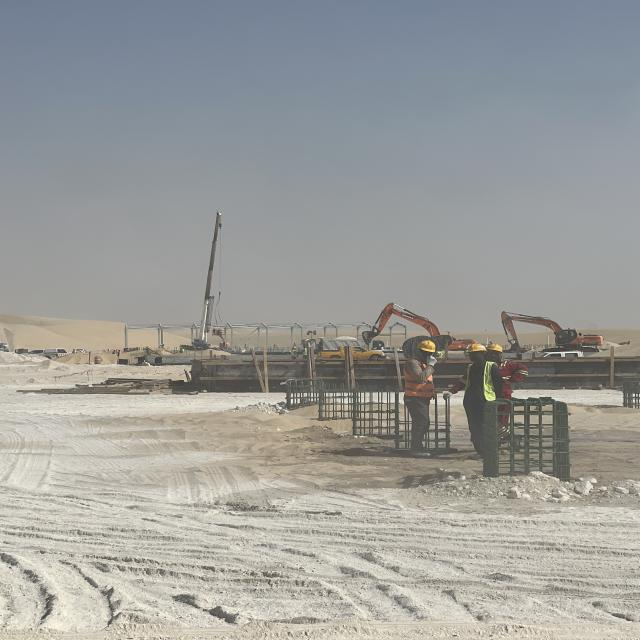excavator: (362, 298, 476, 355), (494, 307, 602, 360)
